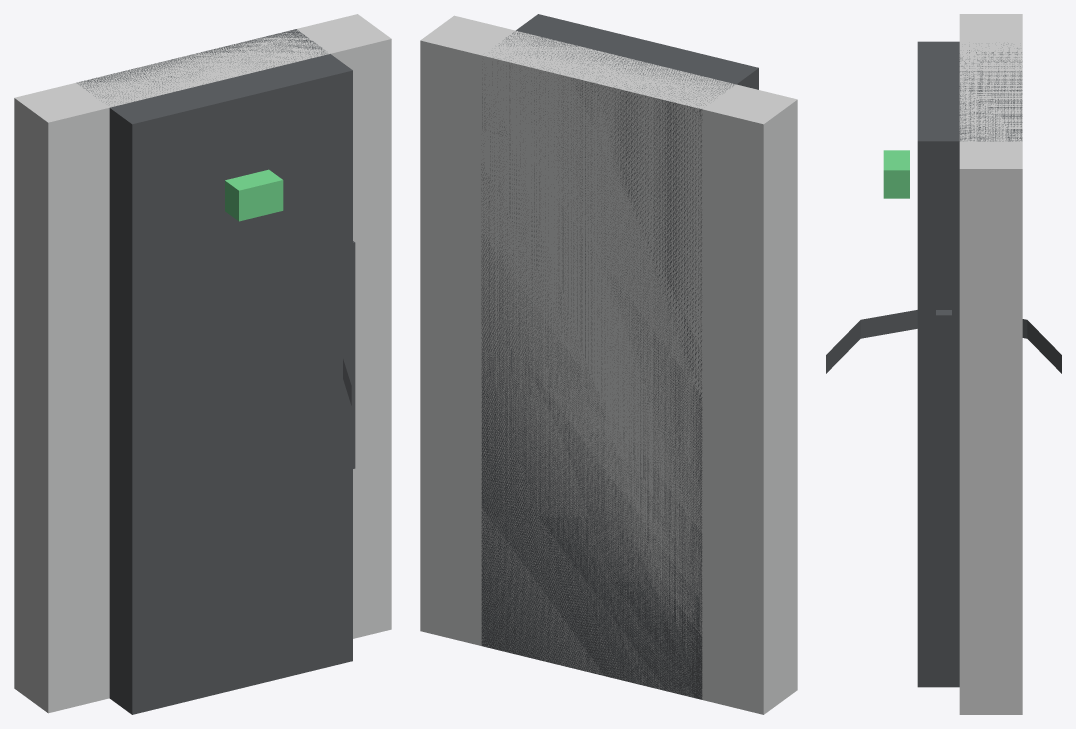
Rendered from stlib-ele-wall-device-plate-v1.glb.
The picture shows the model from 3 angles, left to right: view 1: azimuth 30°, elevation 25°; view 2: azimuth 150°, elevation 25°; view 3: azimuth 270°, elevation 25°; orthographic projection. The views are drawn at different scales.
Parts seen in each view (by area): view 1: body (×2), lamp, handle; view 2: body (×2); view 3: body (×2), handle, door, lamp.
Part boxes in pixels (x1,y1,x2,y2): body (×2): [14, 14, 391, 714]; lamp: [225, 169, 283, 221]; handle: [353, 241, 355, 468]; body (×2): [420, 14, 797, 714]; body (×2): [917, 14, 1022, 714]; handle: [936, 310, 951, 524]; door: [826, 310, 1061, 373]; lamp: [883, 150, 909, 198].
Bounding box in the file's own units: 0.07 × 0.115 × 0.045.
